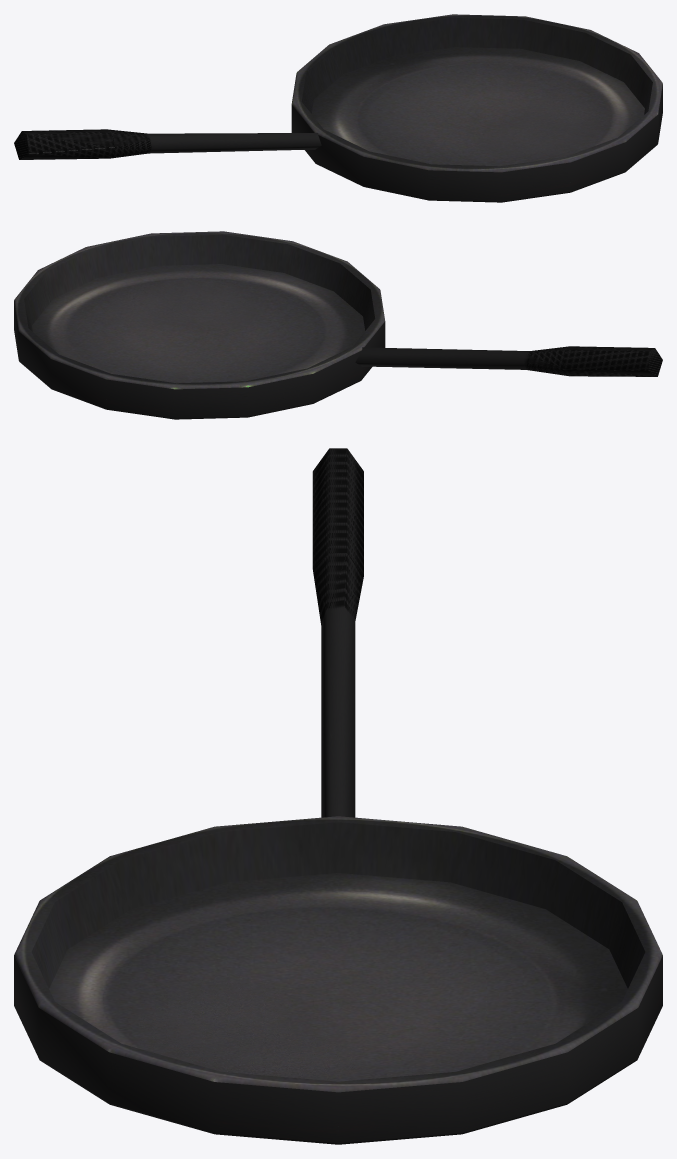
Rendered from Skoworoda.FBX.
The picture shows the model from 3 angles, top to bottom: view 1: azimuth 30°, elevation 25°; view 2: azimuth 150°, elevation 25°; view 3: azimuth 270°, elevation 25°; orthographic projection. The views are drawn at different scales.
Parts seen in each view (by area): view 1: ChamferCyl001, Cylinder001; view 2: ChamferCyl001, Cylinder001; view 3: ChamferCyl001, Cylinder001.
Boxes of the visible parts, left/top/right/bottom form: ChamferCyl001: left=291, top=14, right=662, bottom=202; Cylinder001: left=14, top=129, right=321, bottom=159; ChamferCyl001: left=14, top=231, right=385, bottom=419; Cylinder001: left=355, top=346, right=662, bottom=376; ChamferCyl001: left=14, top=816, right=662, bottom=1144; Cylinder001: left=312, top=448, right=363, bottom=817.
Bounding box in the file's own units: 244 × 38.53 × 127.
Materials: 2 (2 with a texture image).
